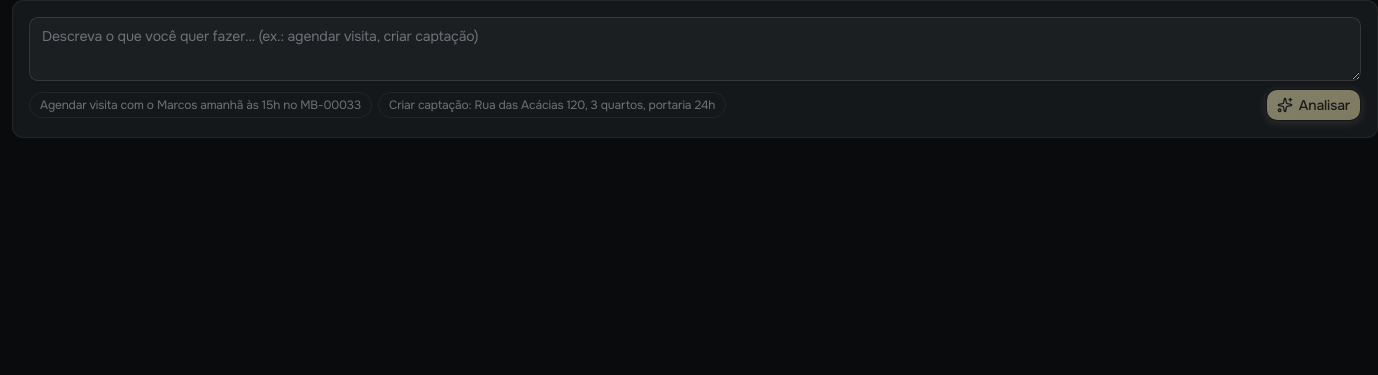
Test: Console do /assistente usa o cartão compartilhado › mostra os campos propostos antes da confirmação
The image size is (1378, 375).
Replace the text in the text box with "agendar visita com o Marcos amanhã 15h" at (695, 49), box [29,17,1361,81]
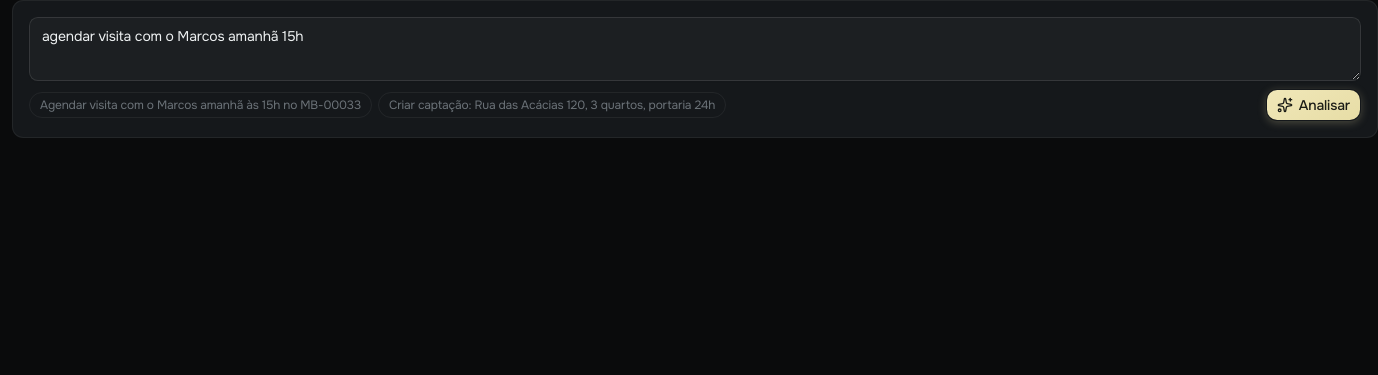
Click the button "Analisar" at (1313, 105), box [1266,89,1361,121]
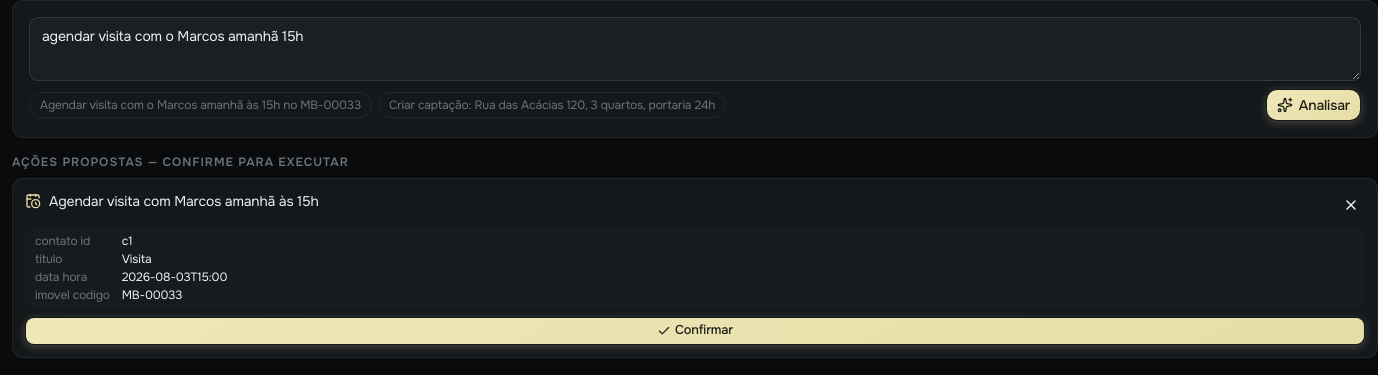
Expected: the text "Agendar visita com Marcos amanhã às 15h" is shown, [49,192,318,210]
Expected: the text "2026-08-03T15:00" is shown, [122,269,227,285]
